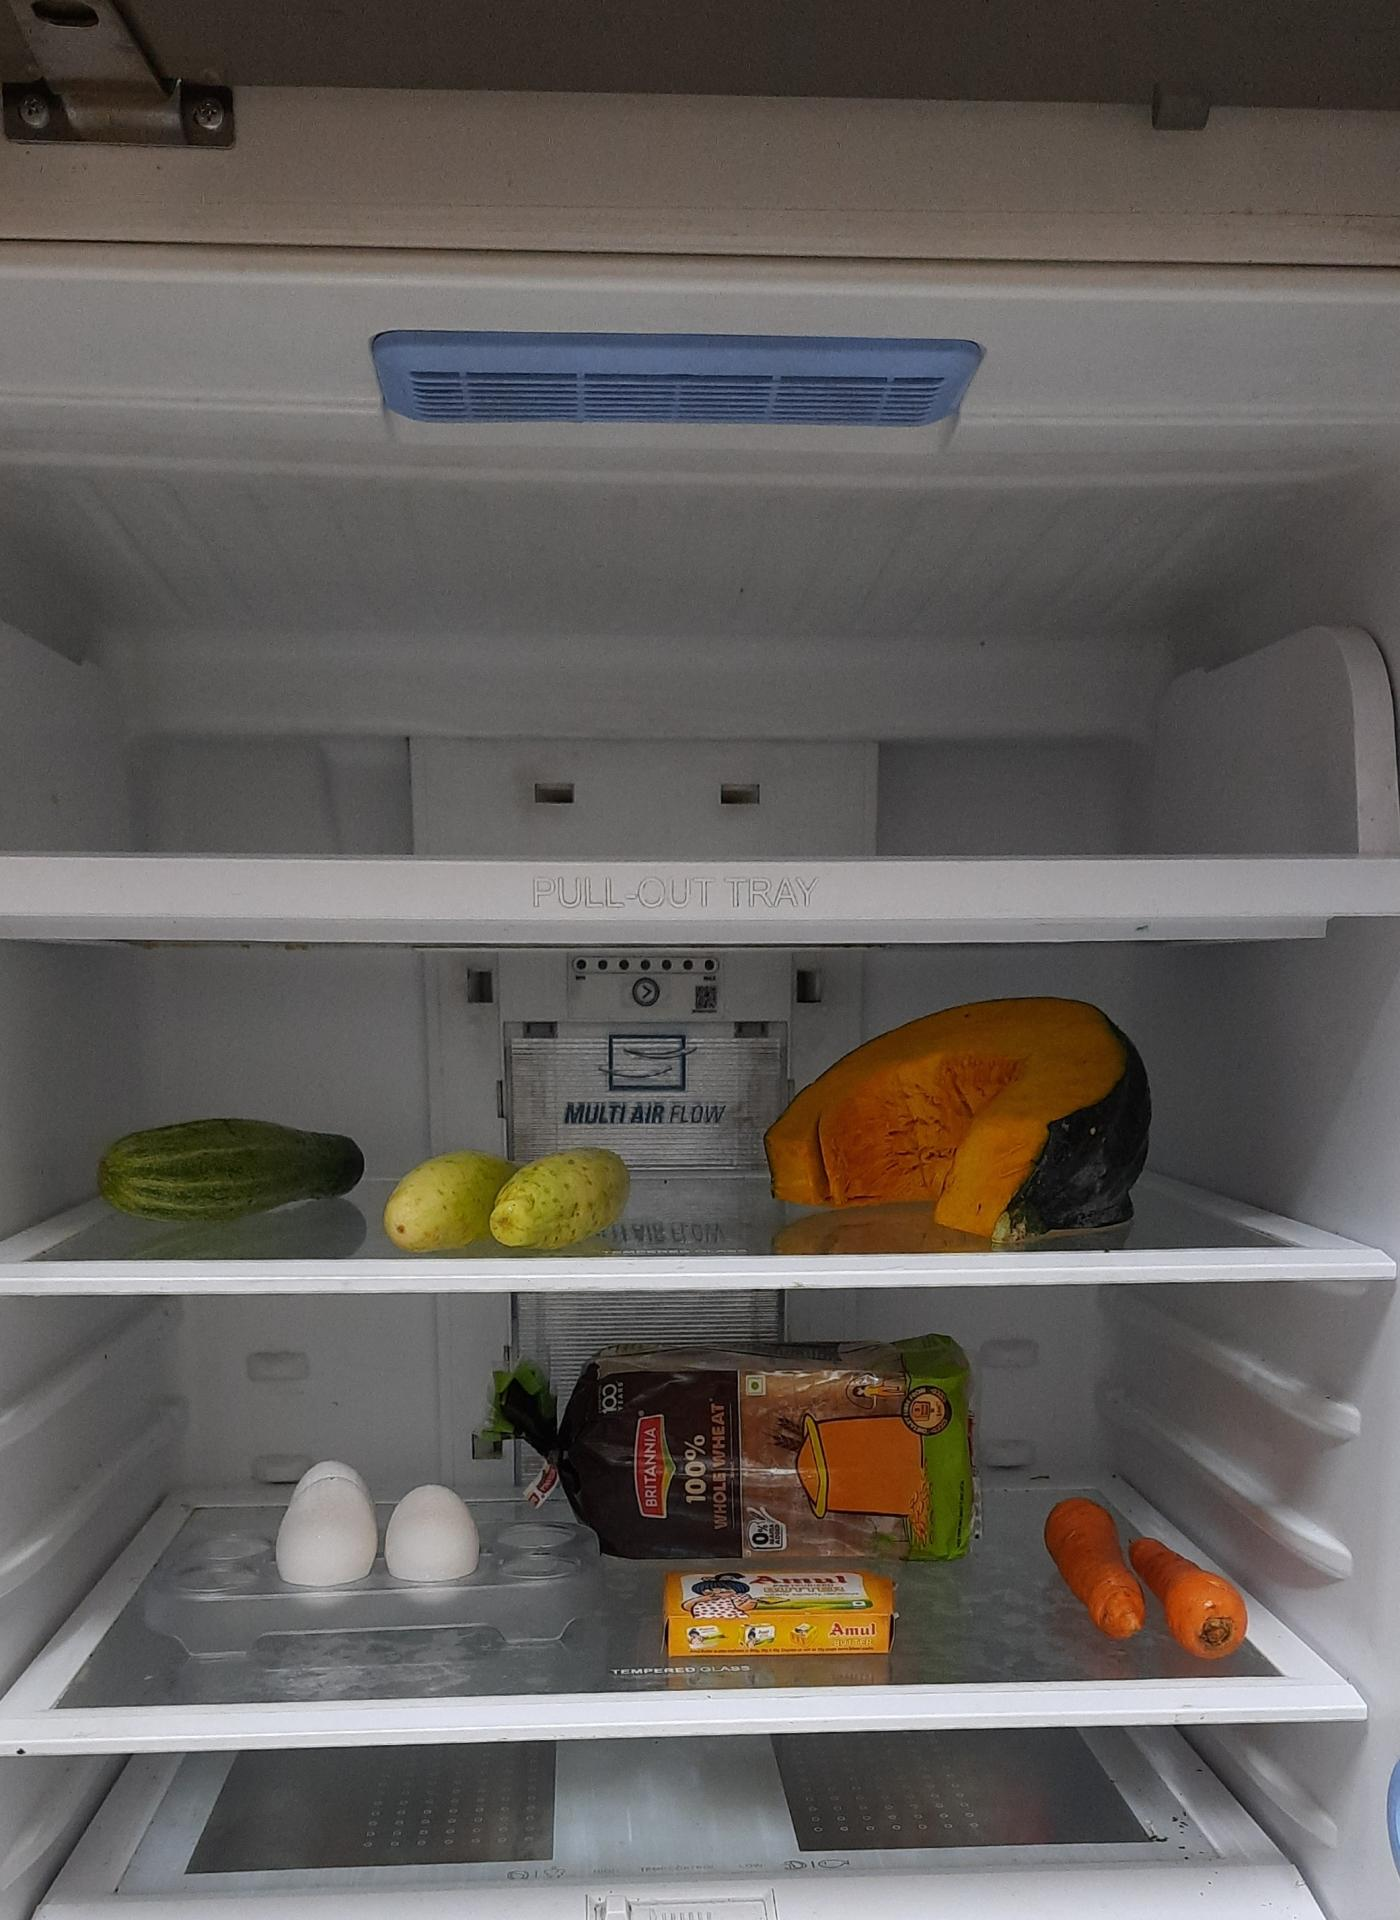bread: (522, 1342, 997, 1556)
butter: (662, 1577, 902, 1676)
carrots: (1041, 1492, 1251, 1656)
cucumber: (91, 1120, 371, 1224), (382, 1146, 635, 1258)
egg: (279, 1452, 480, 1595)
pumpkin: (750, 991, 1151, 1237)
